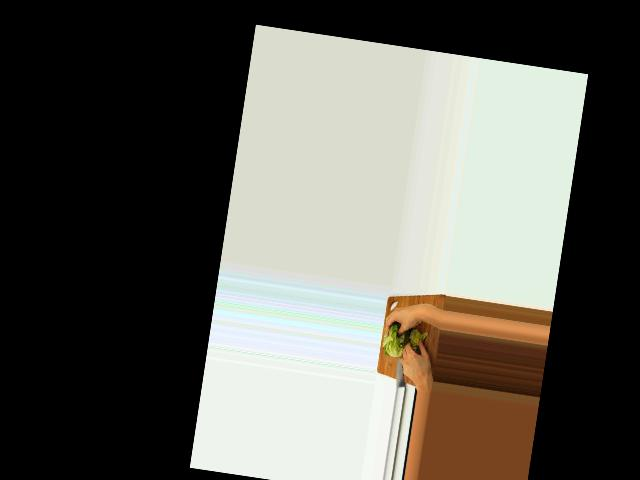lettuce: (381, 322, 409, 359)
